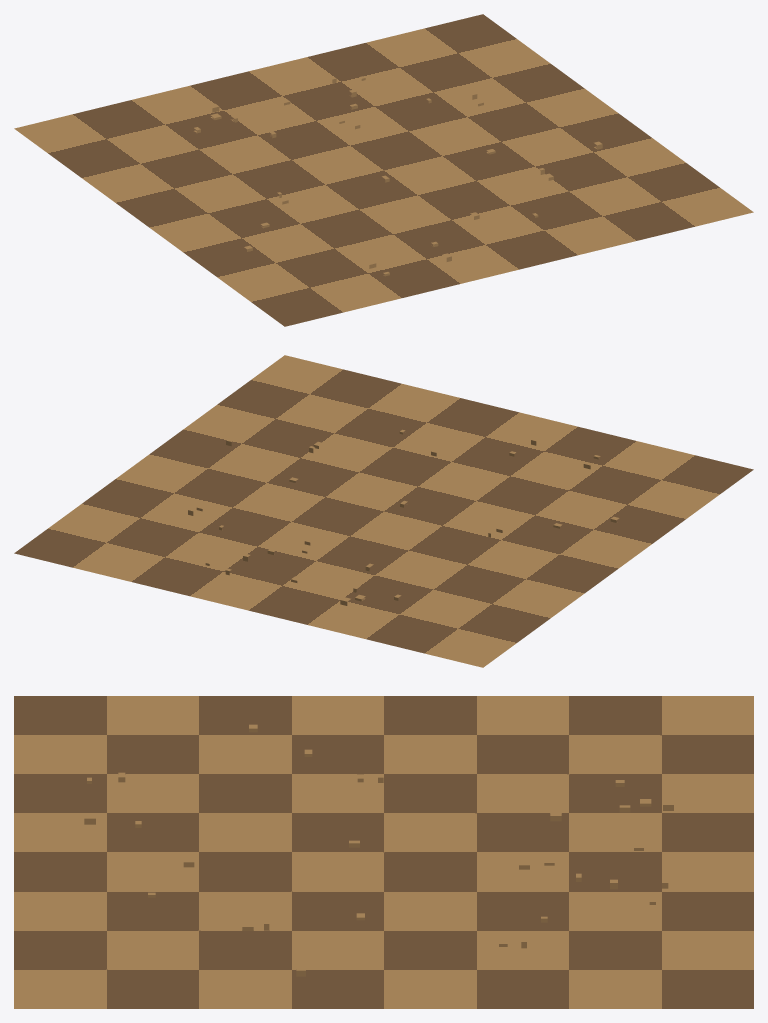
File: br_arena.gltf
3 views of the same model, one above another, from view 1: azimuth 30°, elevation 25°; view 2: azimuth 150°, elevation 25°; view 3: azimuth 270°, elevation 25° (orthographic). The views are drawn at different scales.
Bounding box in the file's own units: 500 × 4.87 × 500.
Materials: 1 (1 with a texture image).
